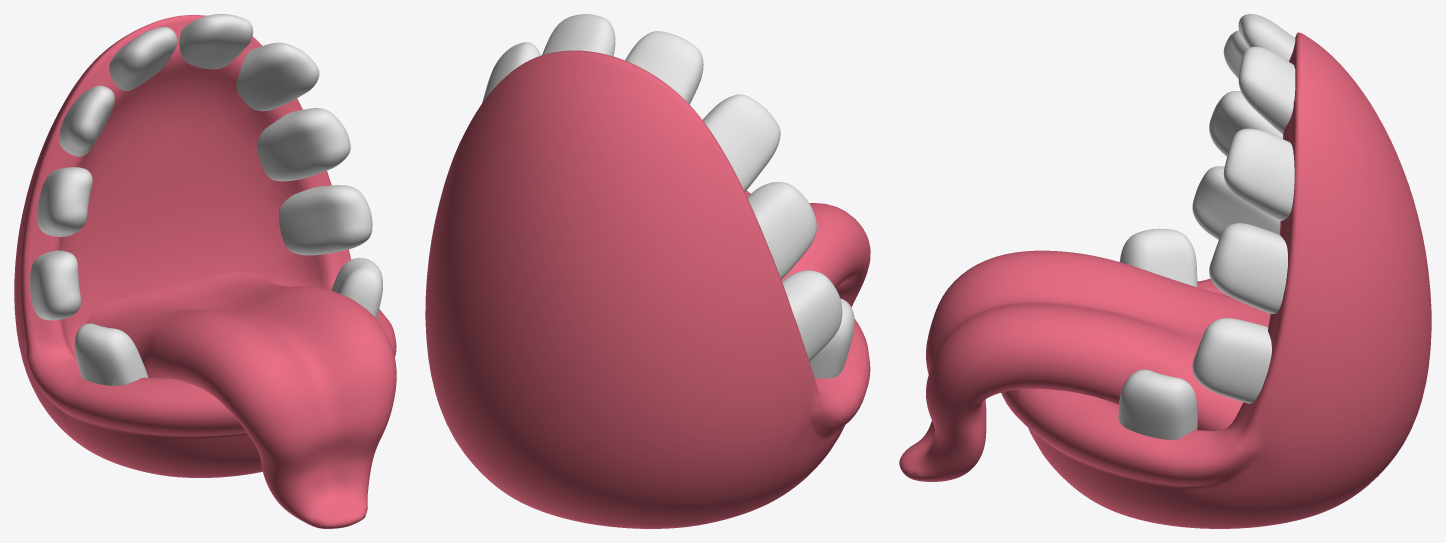
The model's file is Lidah.glb.
The picture shows the model from 3 angles, left to right: view 1: azimuth 30°, elevation 25°; view 2: azimuth 150°, elevation 25°; view 3: azimuth 270°, elevation 25°; orthographic projection. The views are drawn at different scales.
Visible parts, largest first — view 1: imagetostl_mesh0; view 2: imagetostl_mesh0; view 3: imagetostl_mesh0.
Part boxes in pixels (left/top/right/bottom): imagetostl_mesh0: left=14, top=14, right=396, bottom=528; imagetostl_mesh0: left=425, top=14, right=870, bottom=528; imagetostl_mesh0: left=899, top=14, right=1431, bottom=528.
Bounding box in the file's own units: 123 × 138 × 152.
